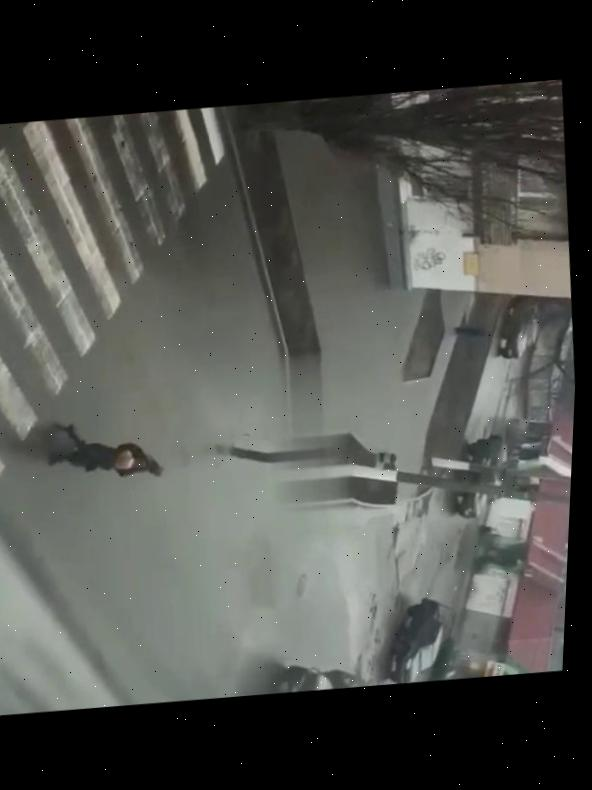armored_car: (450, 433, 514, 519), (492, 288, 549, 368)
car: (382, 596, 463, 685)
person: (44, 417, 136, 476), (98, 439, 167, 480)
